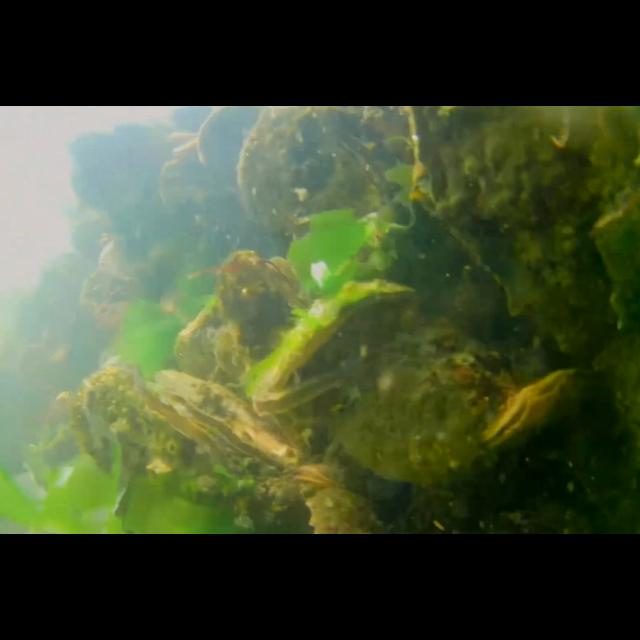Oyster-Closed: (412, 106, 628, 350), (236, 106, 402, 238), (214, 248, 306, 348)
Oyster-Open: (256, 321, 526, 487), (248, 278, 420, 404), (142, 368, 308, 484), (477, 362, 583, 453), (294, 458, 342, 494)
